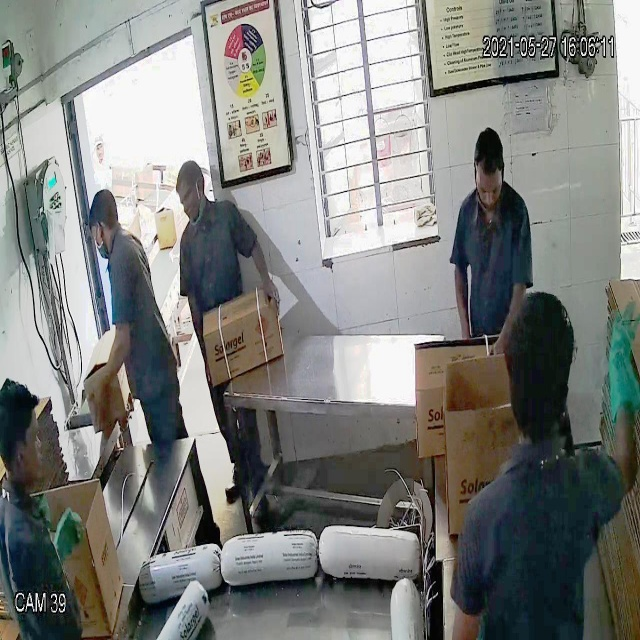Sin_gafas: (474, 168, 509, 211)
